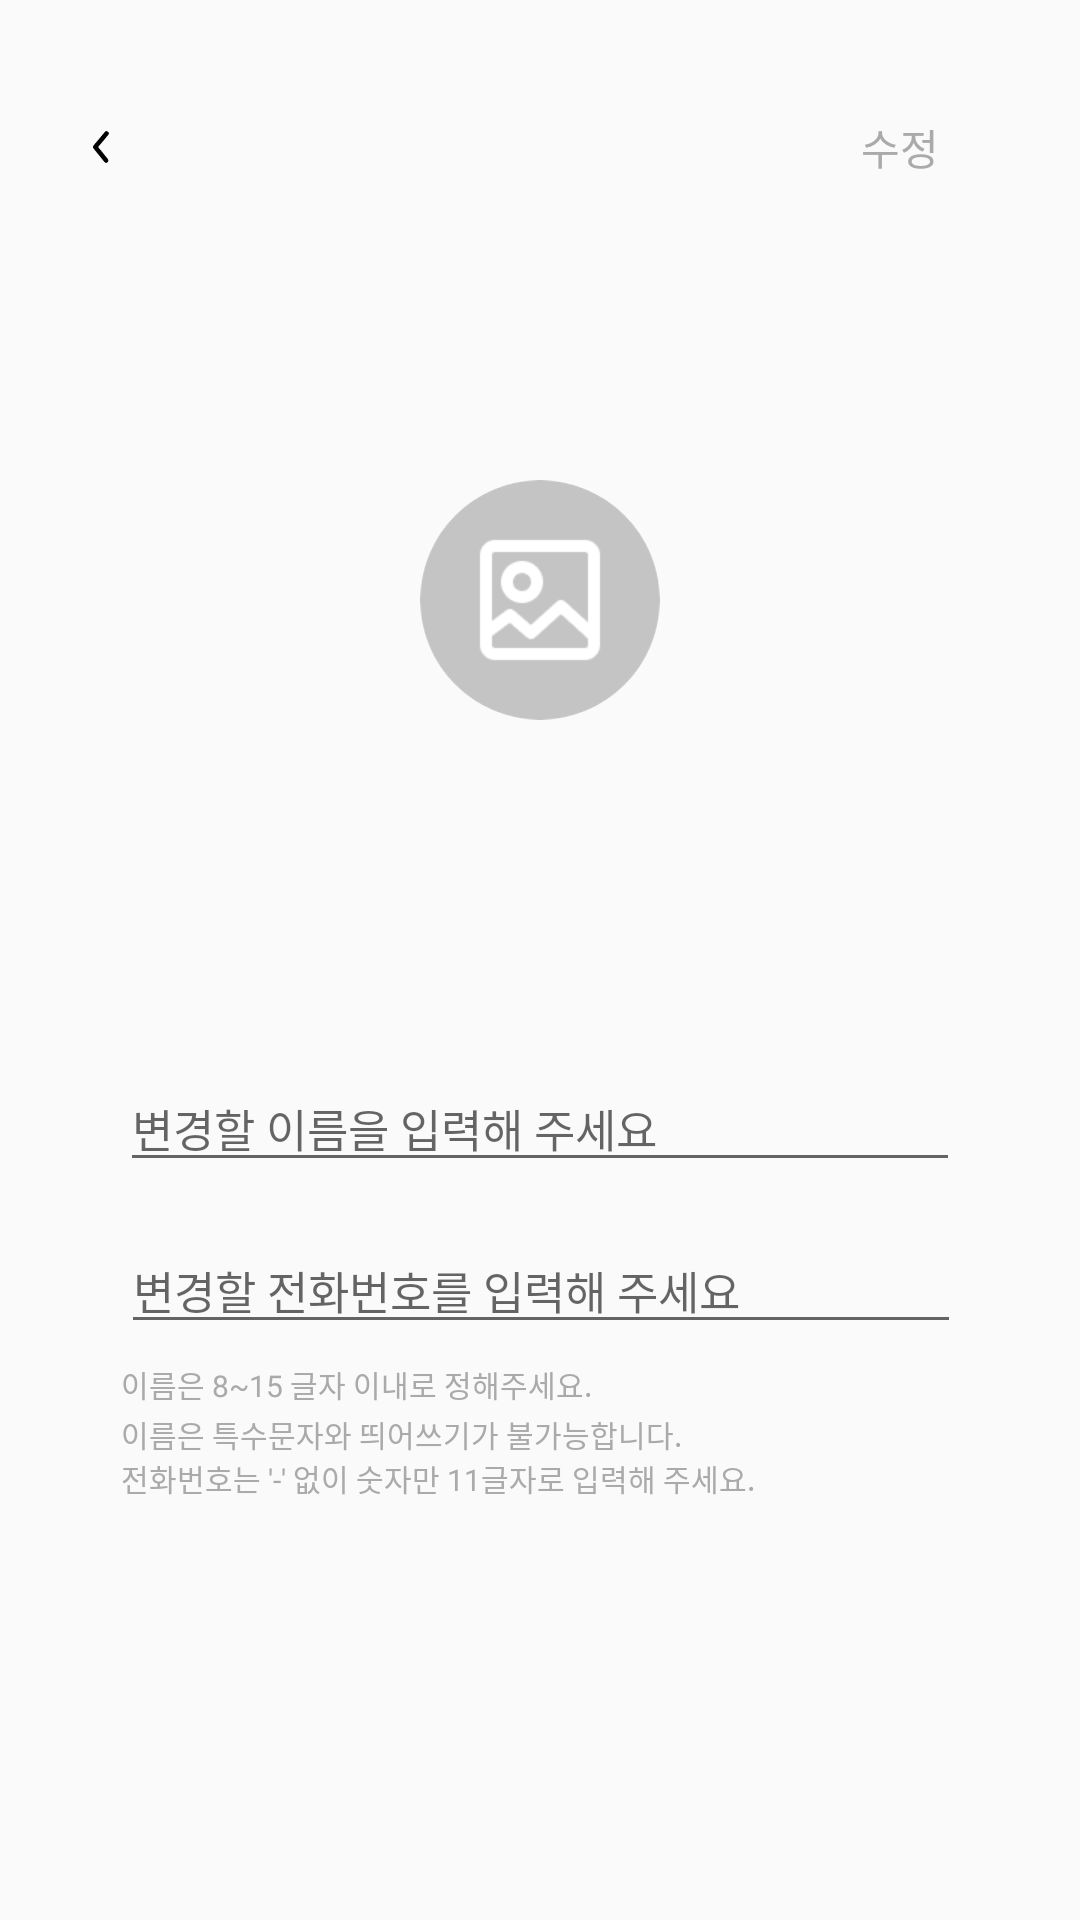

Icons on this 1080px x 1920px Android screen, each with its box as (x1, y1, x2, y2):
back: (93, 131, 109, 163)
